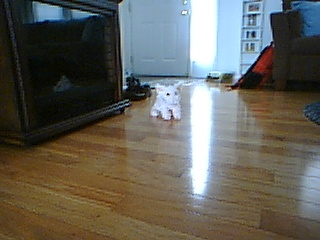piggy: (150, 80, 184, 121)
